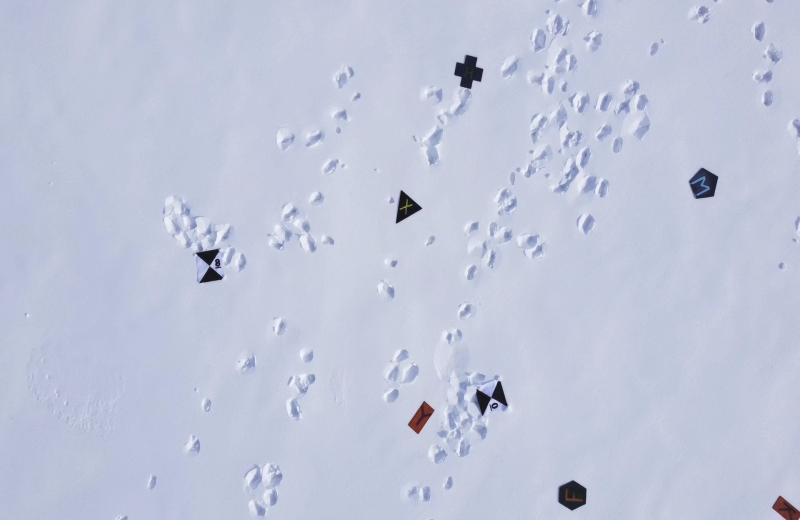Cross: (452, 47, 488, 94)
Hexagon: (554, 474, 594, 512)
Pentagon: (686, 165, 722, 206)
Rectangle: (402, 396, 438, 439), (772, 493, 800, 520)
Triangle: (389, 189, 425, 228)
